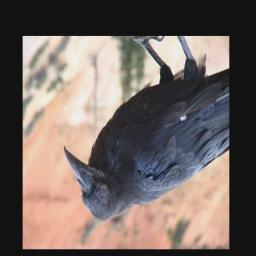Crow: (62, 37, 228, 227)
